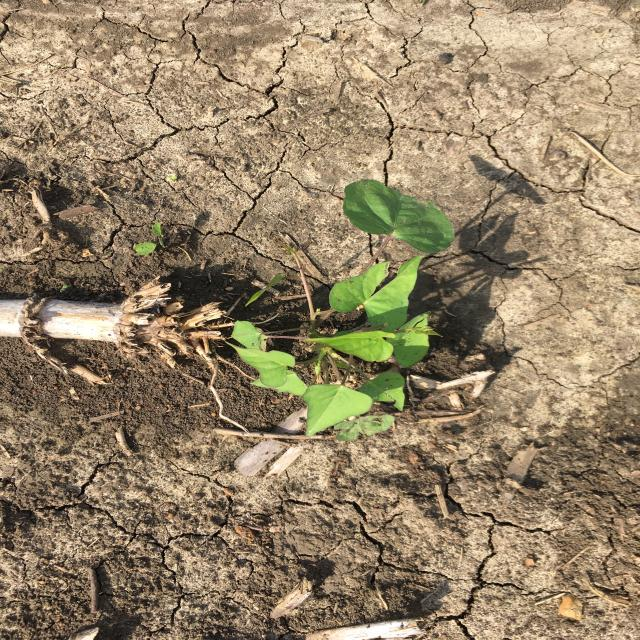MorningGlory: (221, 178, 459, 446)
